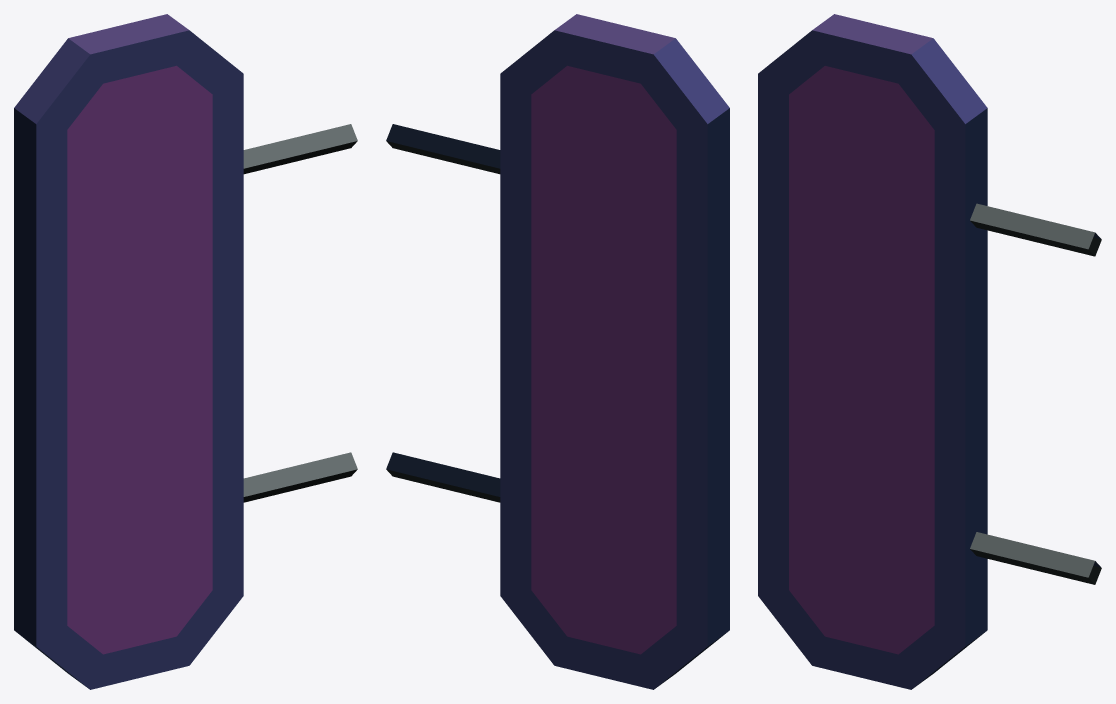
Rendered from TB_CITY_BD_Sign_Por_E.FBX.
3 renders of one model, left to right at view 1: azimuth 30°, elevation 25°; view 2: azimuth 150°, elevation 25°; view 3: azimuth 330°, elevation 25°, orthographic.
Parts seen in each view (by area): view 1: TB_CITY_BD_Sign_Por_E; view 2: TB_CITY_BD_Sign_Por_E; view 3: TB_CITY_BD_Sign_Por_E.
Boxes of the visible parts, x1,y1,x2,y2 form: TB_CITY_BD_Sign_Por_E: (14, 14, 357, 689); TB_CITY_BD_Sign_Por_E: (386, 14, 729, 689); TB_CITY_BD_Sign_Por_E: (758, 14, 1101, 689).
Bounding box in the file's own units: 3.37 × 6.28 × 0.3982.
